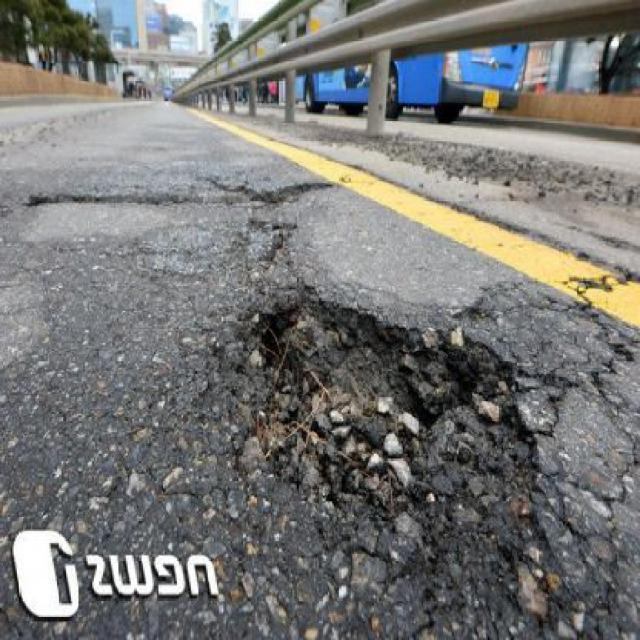pothole: (240, 281, 529, 527)
